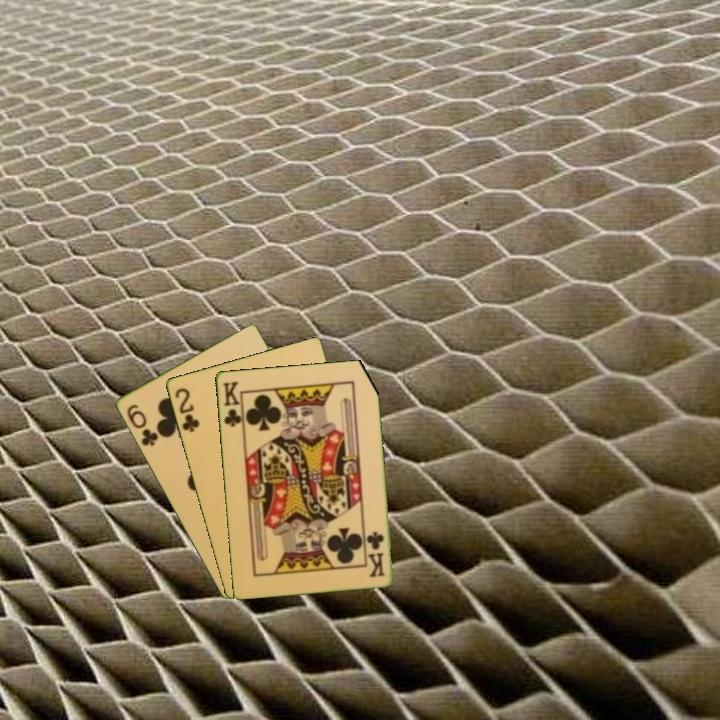2c: (171, 384, 202, 435)
6c: (123, 400, 161, 449)
Kc: (219, 378, 245, 432), (363, 528, 387, 580)
